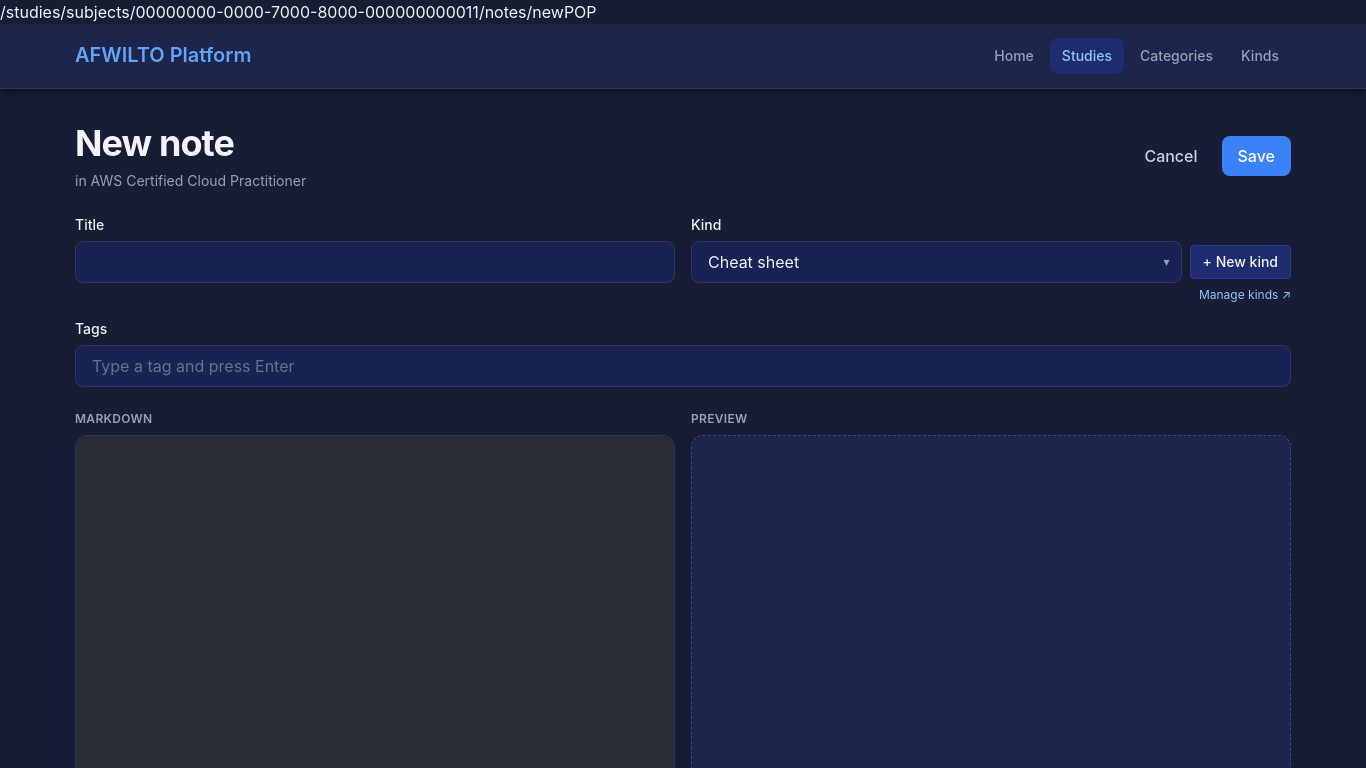
Test: Kinds from the editor (S09b2) › "+ New kind" creates a kind, selects it, and keeps the form (S09b2-1)
Expected: the heading "New note" is shown, [75,121,234,165]
Type "Draft title" into the field labelled "Title" at coordinates (375, 262), box [75,241,675,283]
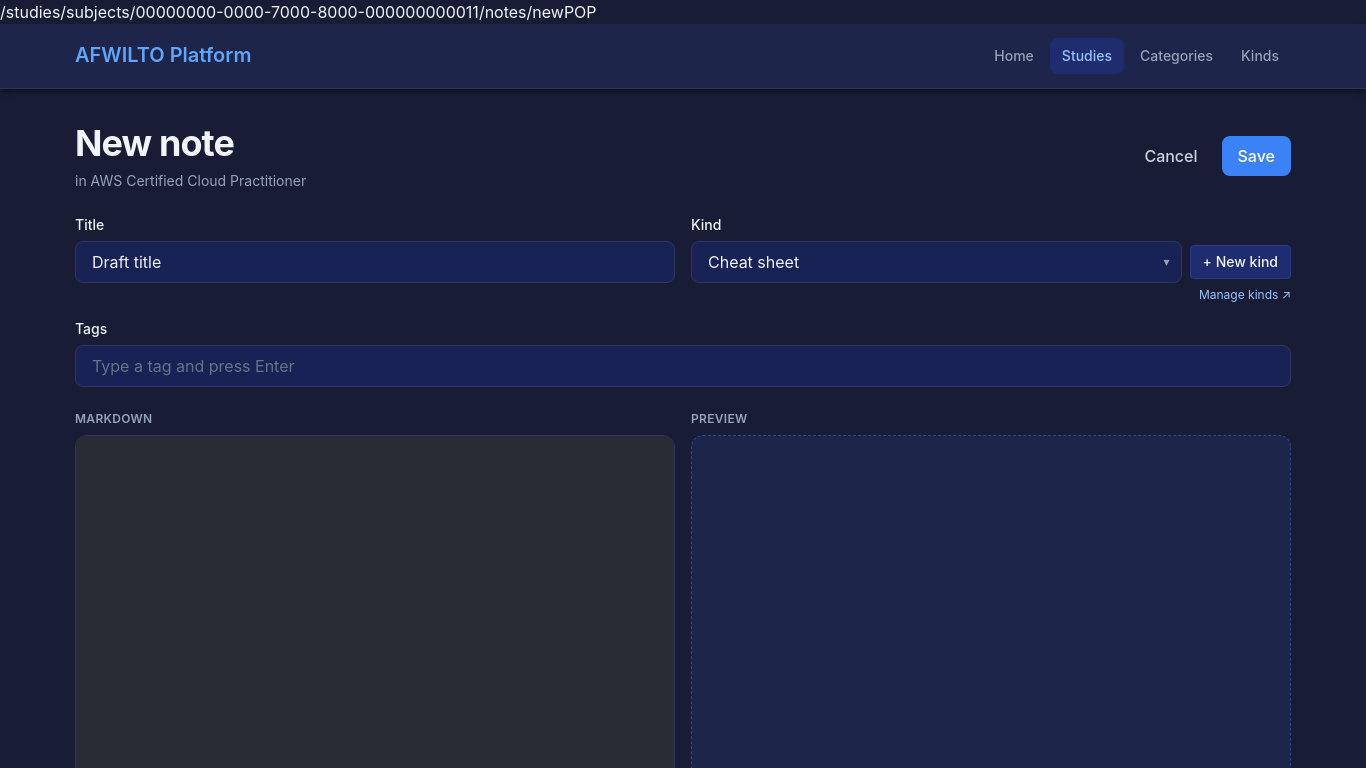
Click the button "+ New kind" at coordinates (1240, 262), box [1190,245,1291,279]
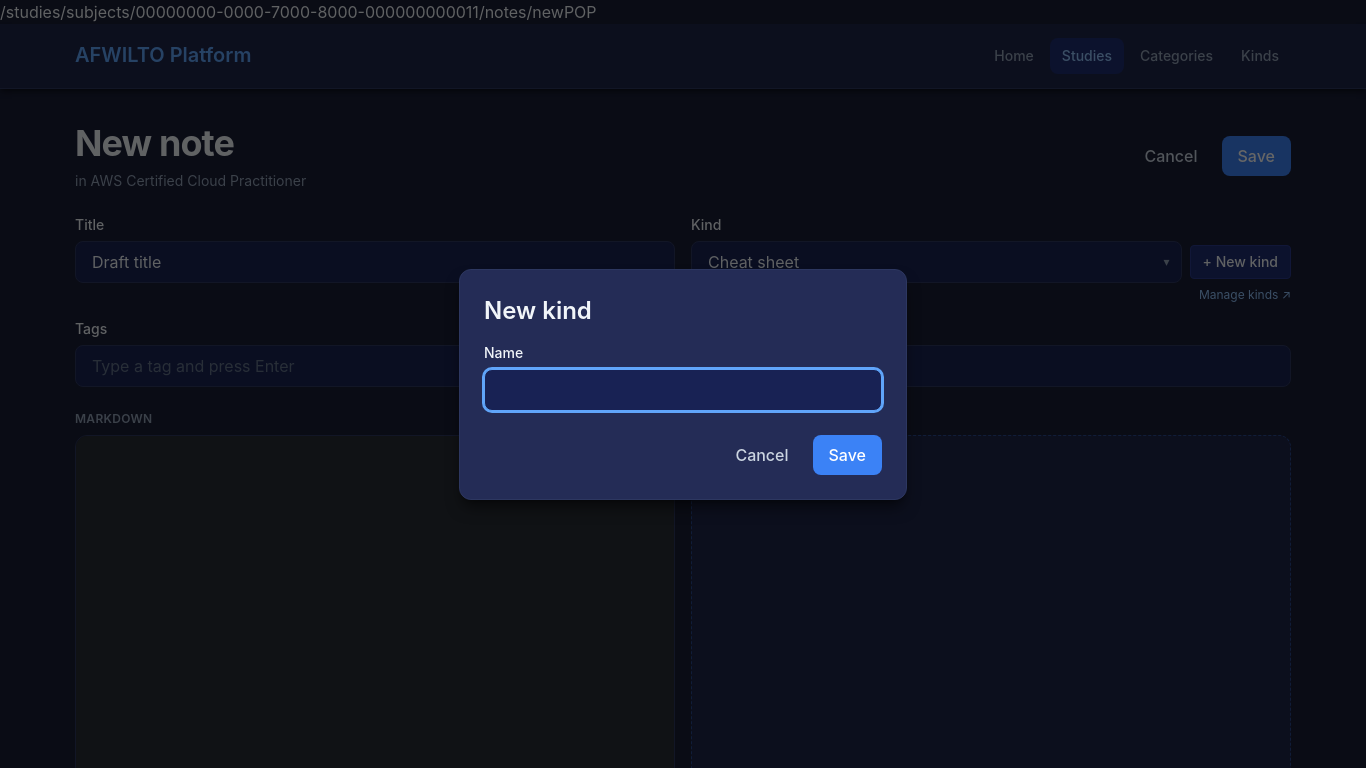
Type "Lab report" into the field labelled "Name" at coordinates (683, 390), box [484,368,882,410]
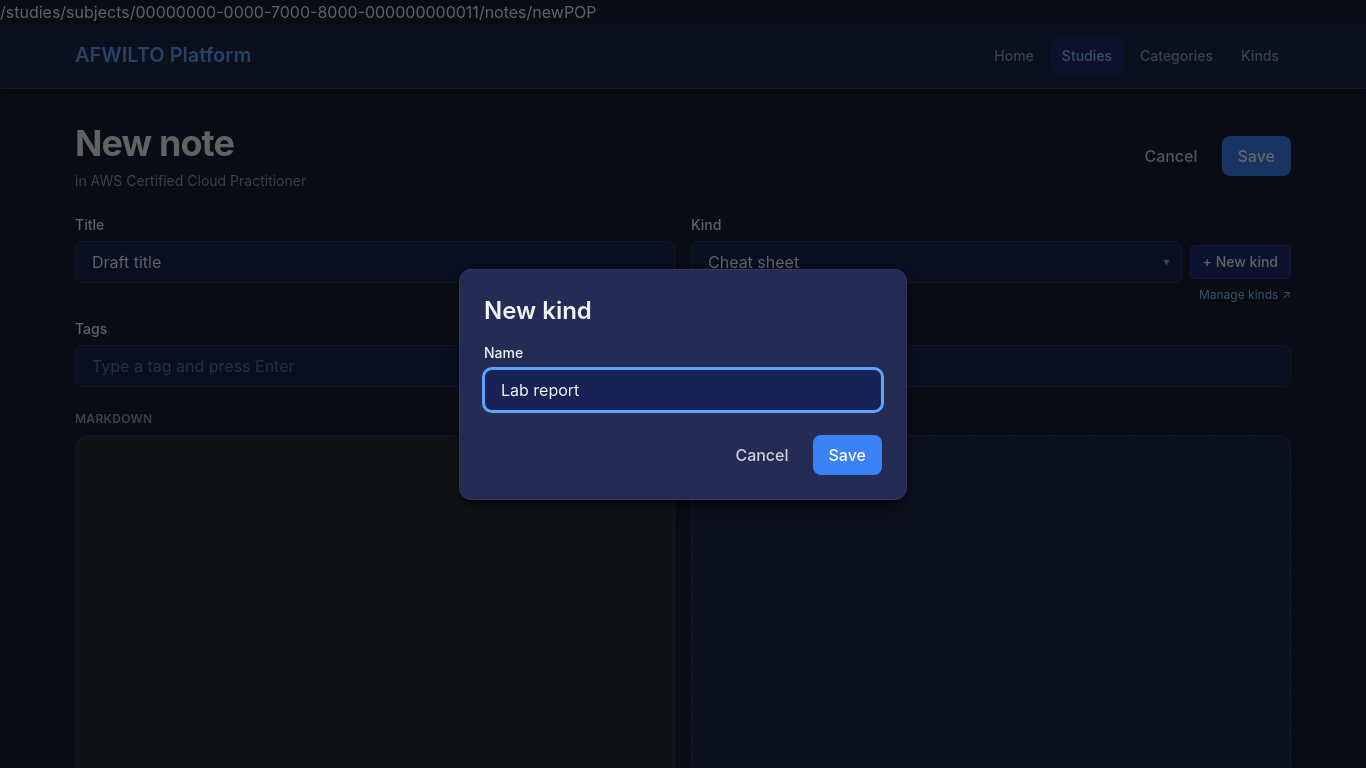
Click the button "Save" at coordinates (847, 454), box [812,434,882,474]
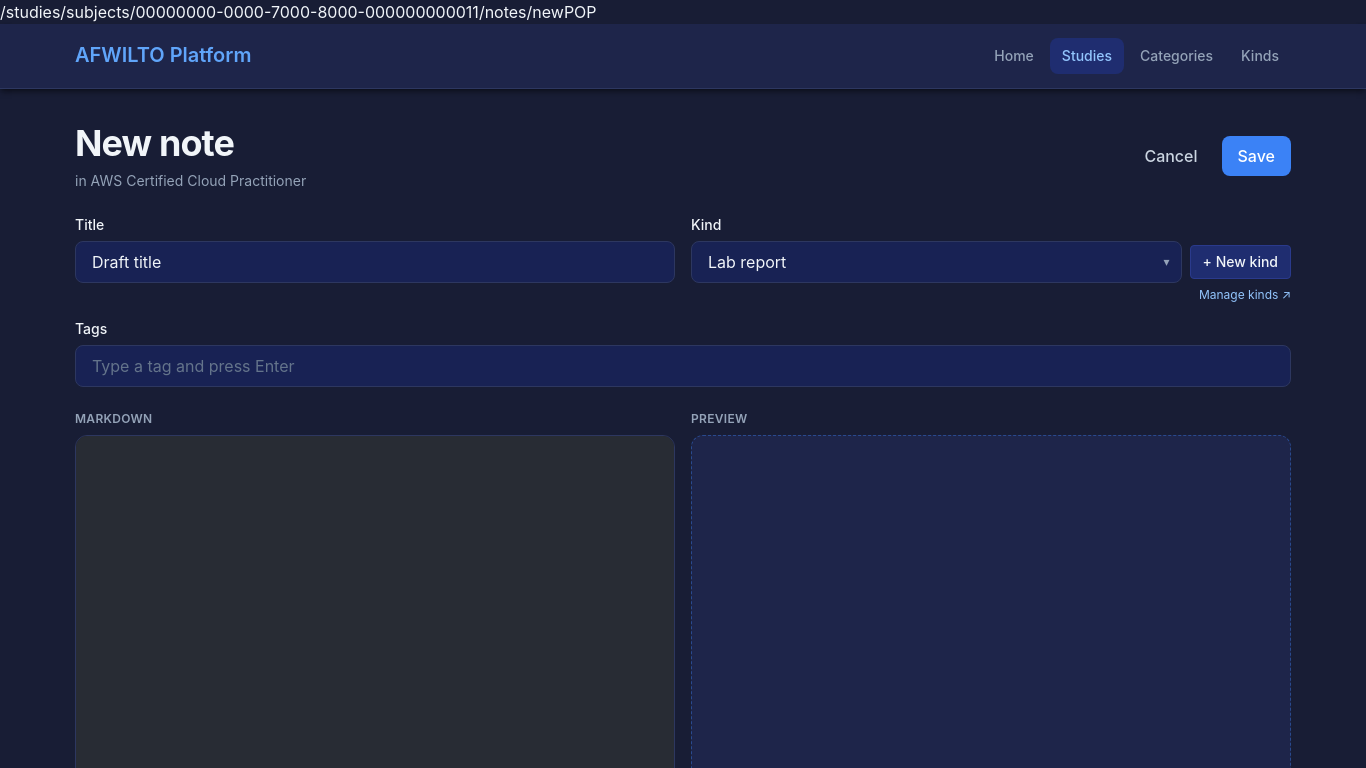
Result: the dialog is gone
